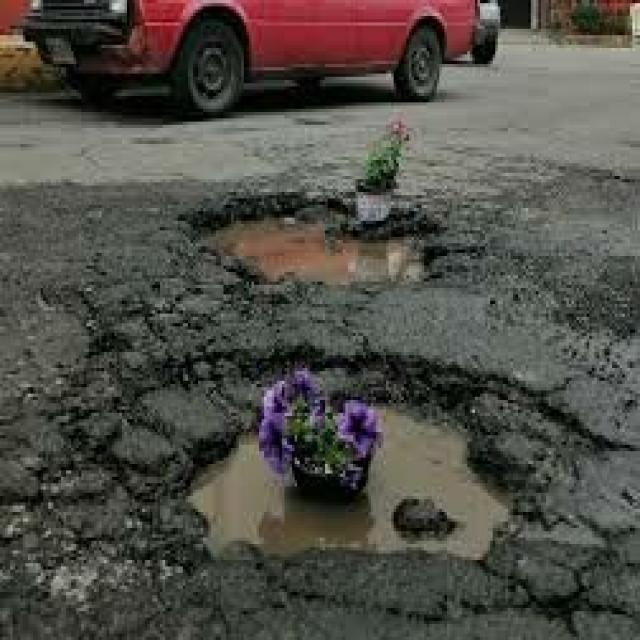pothole: (28, 153, 617, 640)
